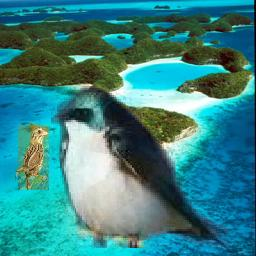Sparrow: (15, 126, 49, 191)
Swallow: (51, 84, 229, 248)
